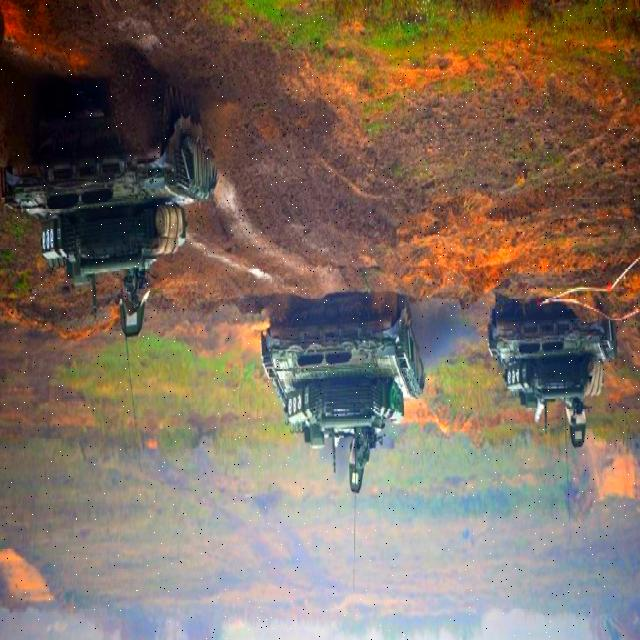TANK: (0, 72, 218, 342), (260, 282, 426, 496), (487, 289, 619, 431)
